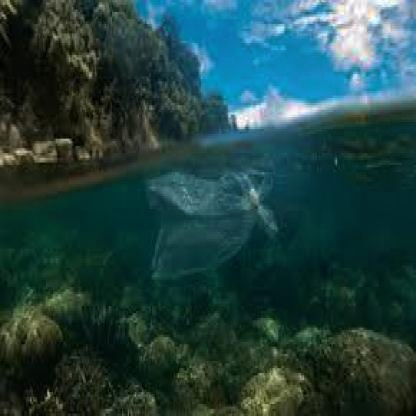pbag: (145, 165, 282, 282)
